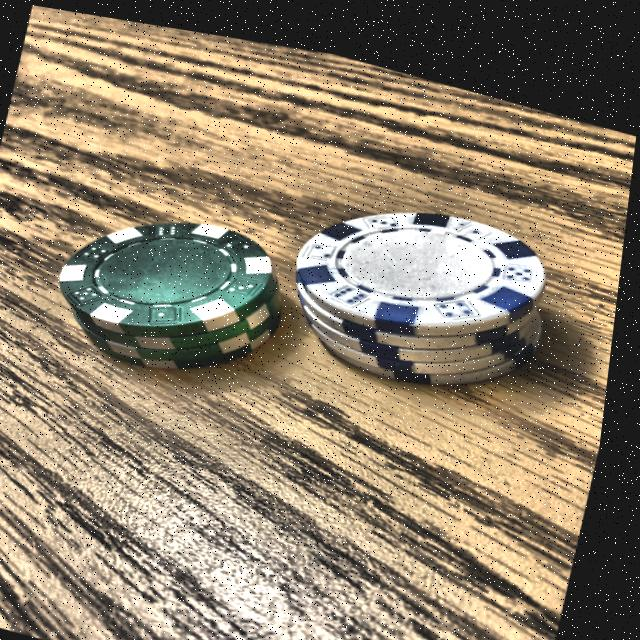Chip: (245, 132, 601, 424), (27, 147, 340, 429)
